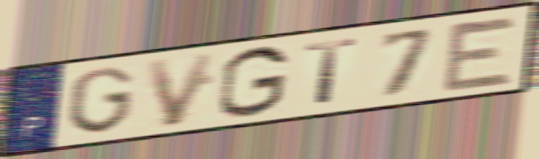7: (377, 25, 438, 99)
E: (439, 14, 521, 94)
G: (216, 44, 292, 121), (65, 64, 136, 136)
T: (303, 35, 362, 107)
V: (143, 49, 220, 130)
